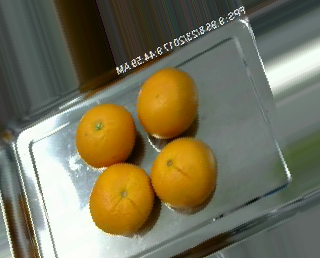Orange: (88, 163, 155, 237), (150, 137, 217, 209), (135, 66, 196, 140), (74, 103, 136, 168)
